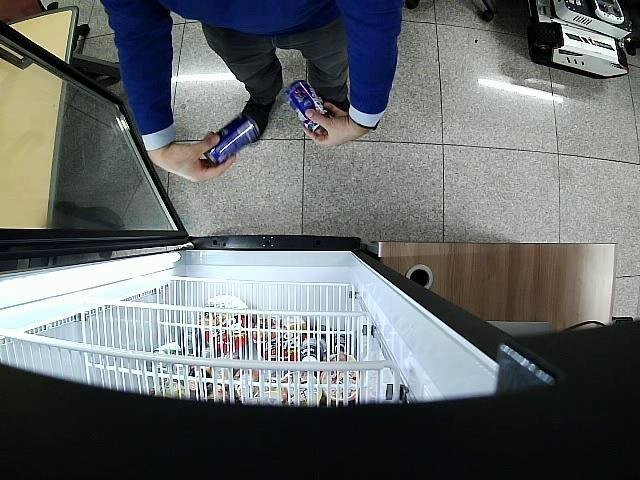14_welchsGrape: (203, 113, 260, 164), (285, 78, 329, 132)
